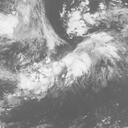cyclone: (24, 10, 116, 95)
